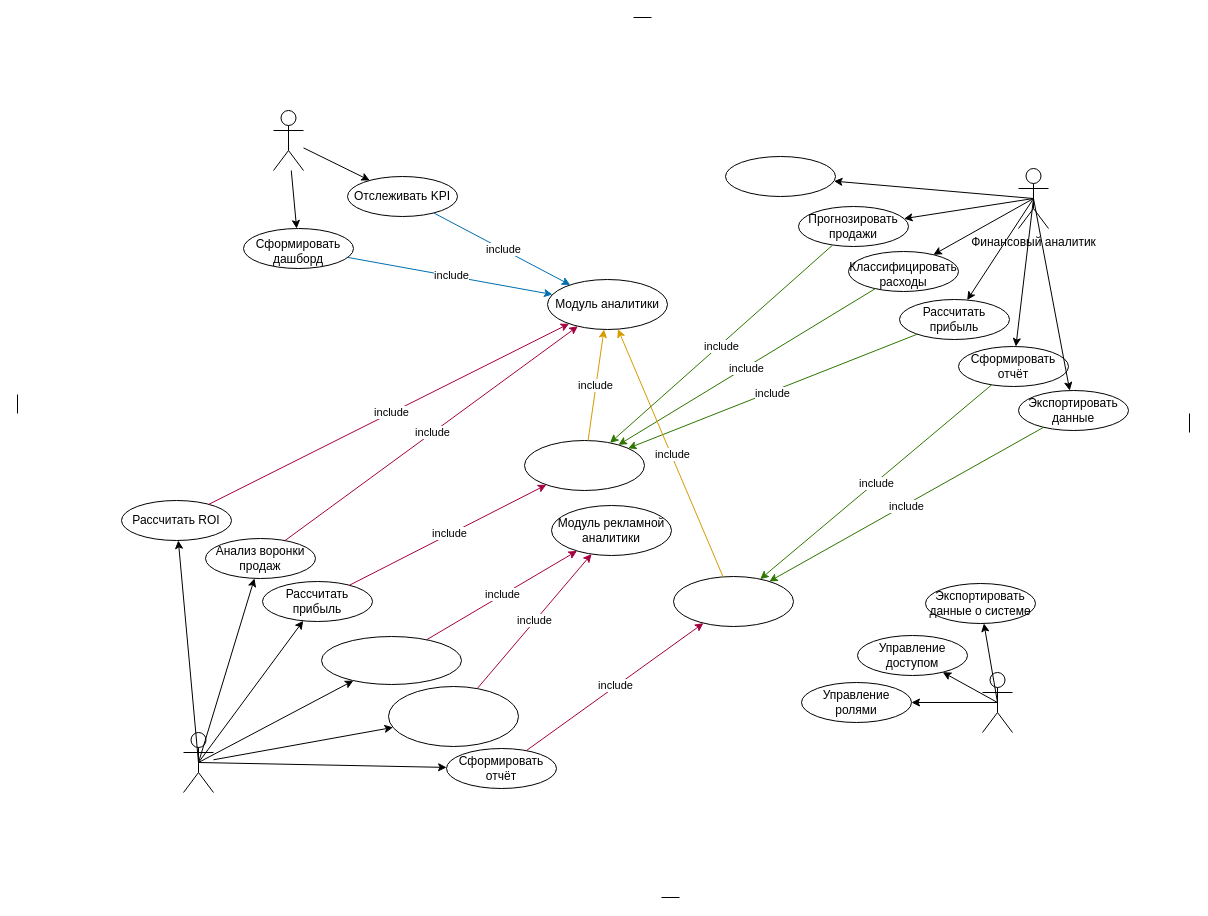
Some shapes in this 1208 by 916 pixel diagram are drawn without their labels. Each missing label, with the box of its shape:
Администратор: (982, 672, 1012, 732)
Анализ продаж: (524, 440, 644, 490)
Анализ расходов: (724, 156, 836, 196)
Анализировать рекламные кампании: (320, 636, 462, 684)
Владелец: (272, 110, 304, 170)
Генератор отчётов: (672, 576, 794, 626)
Маркетолог: (182, 732, 214, 792)
Рекомендовать распределение бюджета: (388, 686, 518, 746)
